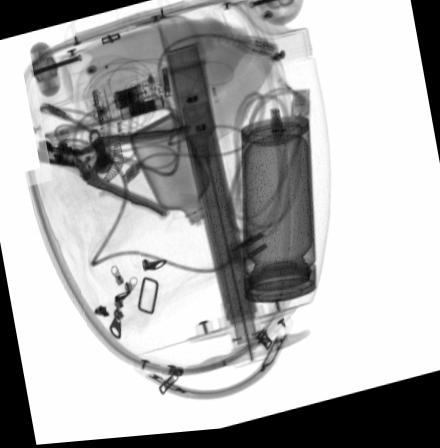Pliers: (34, 128, 188, 220)
